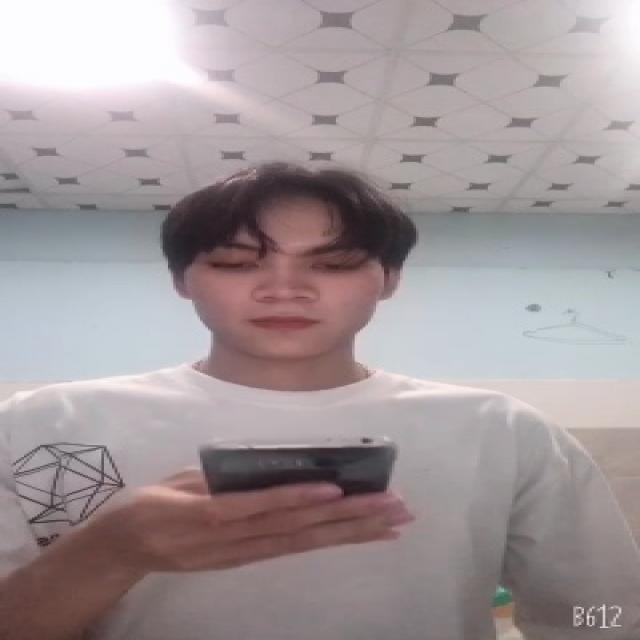Phone: (196, 433, 402, 497)
